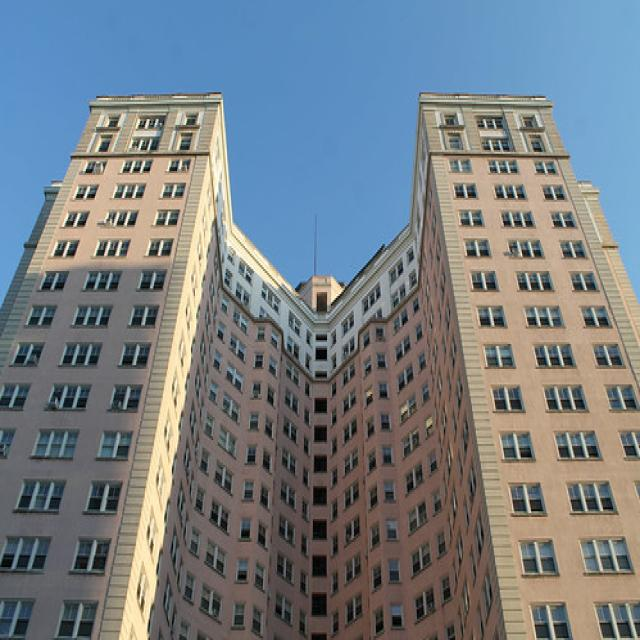building: (410, 82, 639, 640), (6, 79, 233, 636)
